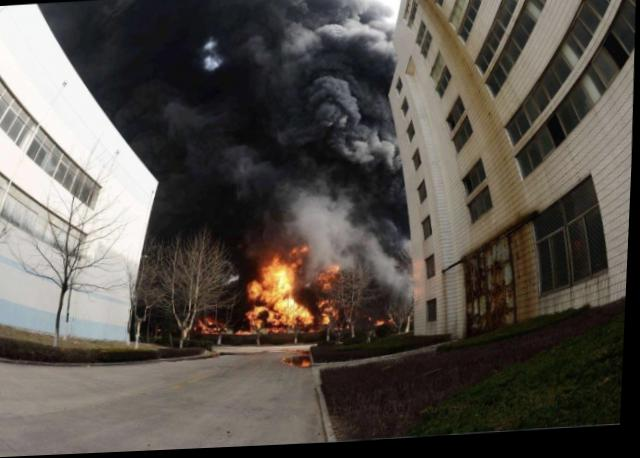fire: (263, 258, 297, 292), (278, 298, 298, 323), (321, 269, 337, 290), (247, 281, 262, 300), (298, 308, 314, 325), (267, 290, 286, 304), (249, 309, 263, 328), (289, 245, 308, 257), (268, 310, 279, 327), (322, 308, 333, 324), (237, 329, 255, 336), (199, 320, 208, 332), (208, 316, 217, 327), (302, 359, 313, 367), (320, 300, 331, 307), (375, 321, 384, 327)
